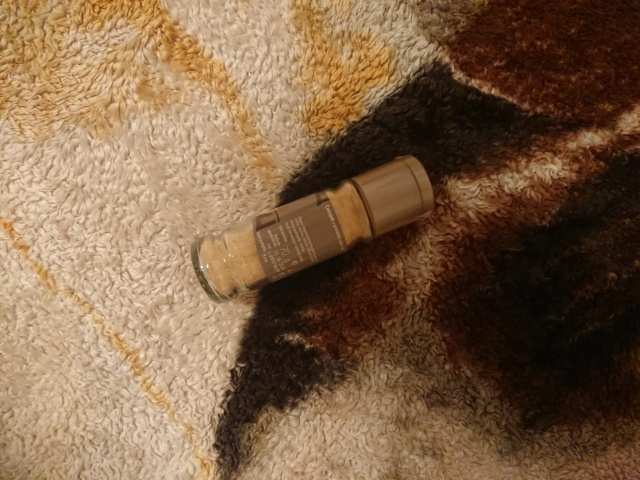Kotanyi Garlic Granules 70g: (186, 148, 438, 307)
